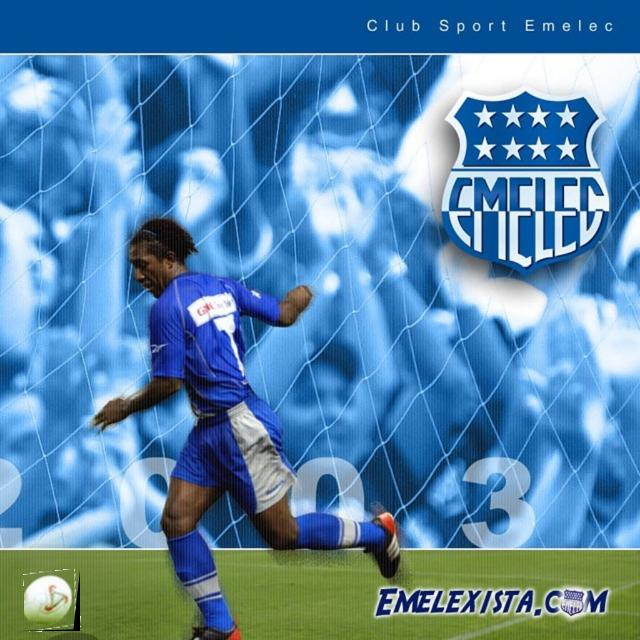Football: (24, 571, 80, 631)
